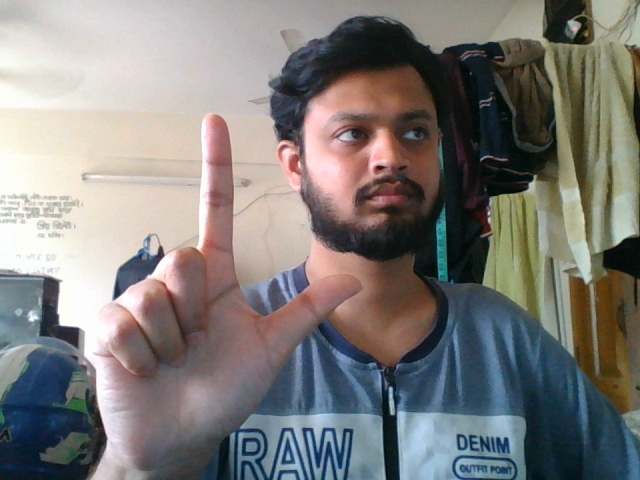la: (78, 108, 369, 467)
